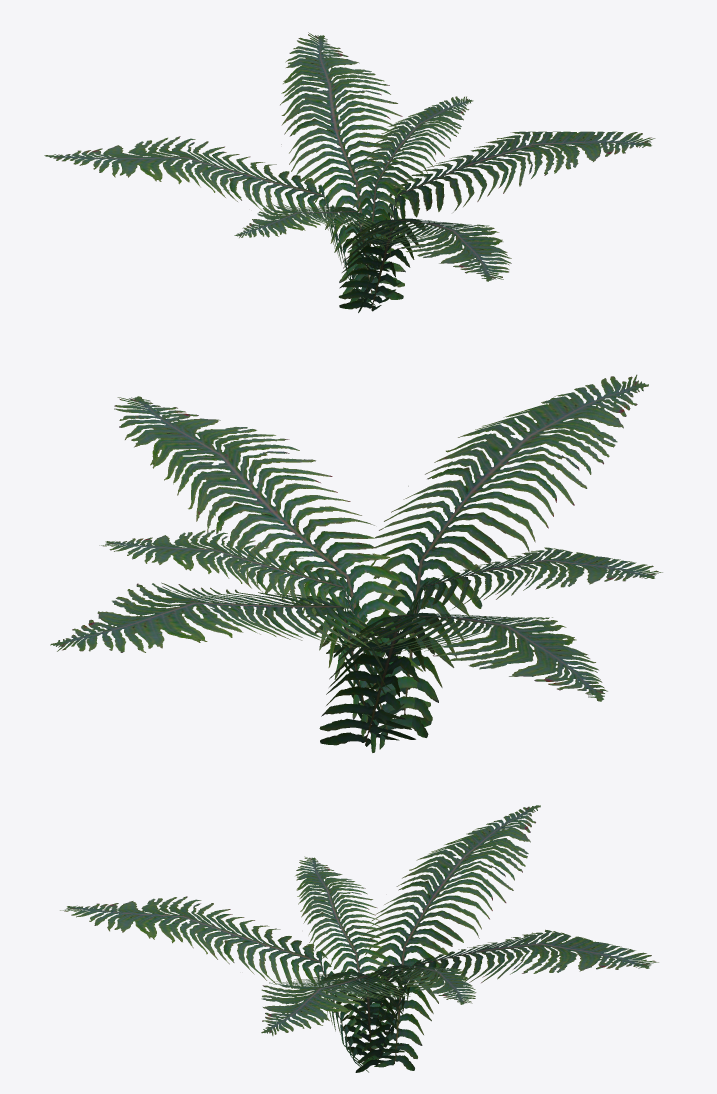
File: bush.fbx
3 views of the same model, one above another, from view 1: azimuth 30°, elevation 25°; view 2: azimuth 150°, elevation 25°; view 3: azimuth 270°, elevation 25° (orthographic). The views are drawn at different scales.
Parts seen in each view (by area): view 1: Mesh Object; view 2: Mesh Object; view 3: Mesh Object.
Part boxes in pixels (<box>): Mesh Object: <box>44,32,655,312</box>; Mesh Object: <box>50,374,662,752</box>; Mesh Object: <box>60,805,658,1072</box>.
Bounding box in the file's own units: 4.97 × 1.31 × 5.51.
